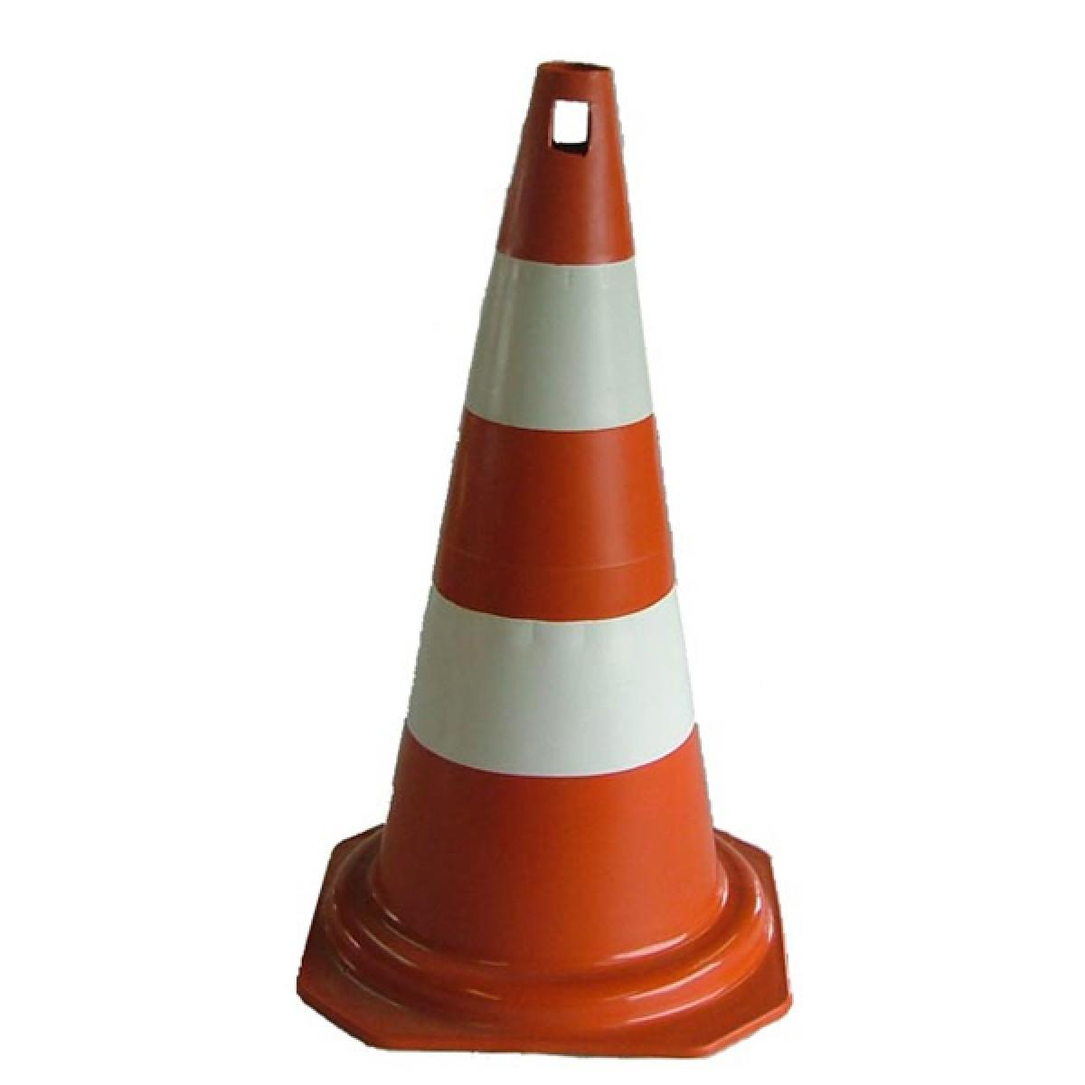traffic_cone: (295, 58, 794, 1059)
